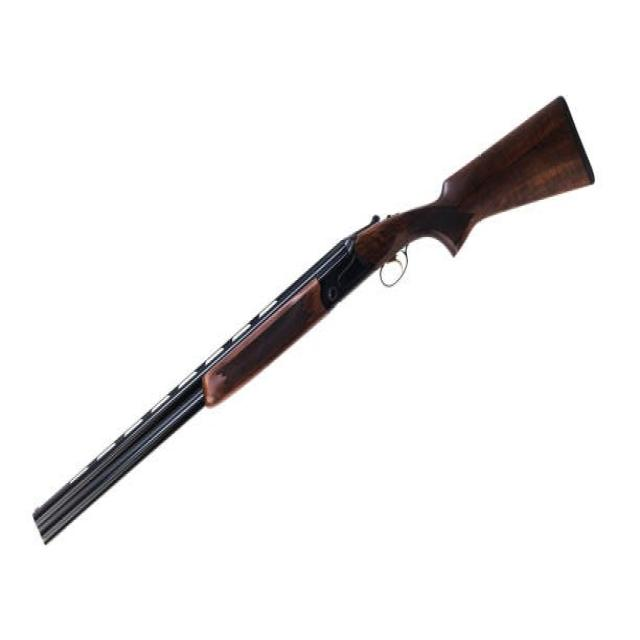rifle: (32, 90, 595, 551)
